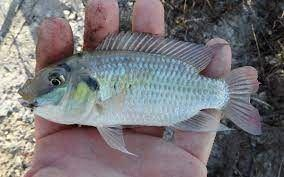Tilapia: (17, 29, 264, 156)
